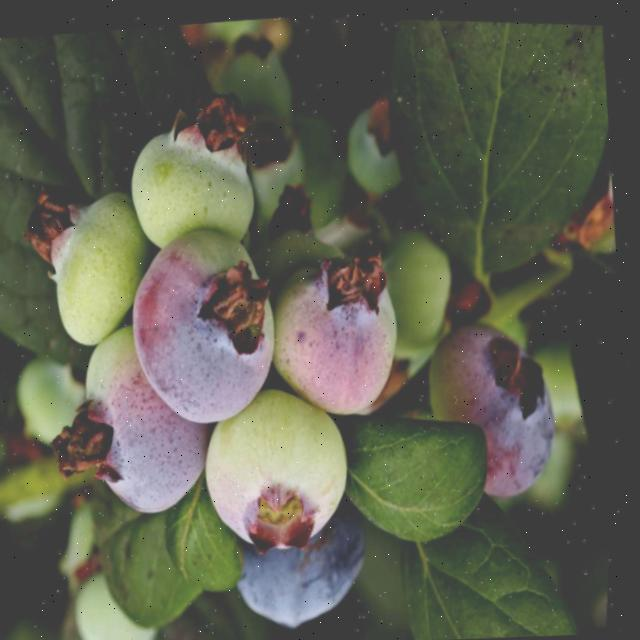RipeBlueBerry: (226, 499, 382, 639)
Semi-RipeBlueBerry: (112, 205, 302, 439), (63, 311, 229, 526), (409, 308, 580, 513), (263, 233, 422, 426)
UnripeBlueBerry: (189, 371, 369, 565), (121, 111, 275, 260), (30, 174, 157, 352)
